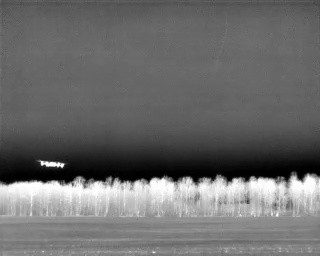DRONE: (34, 155, 69, 172)
